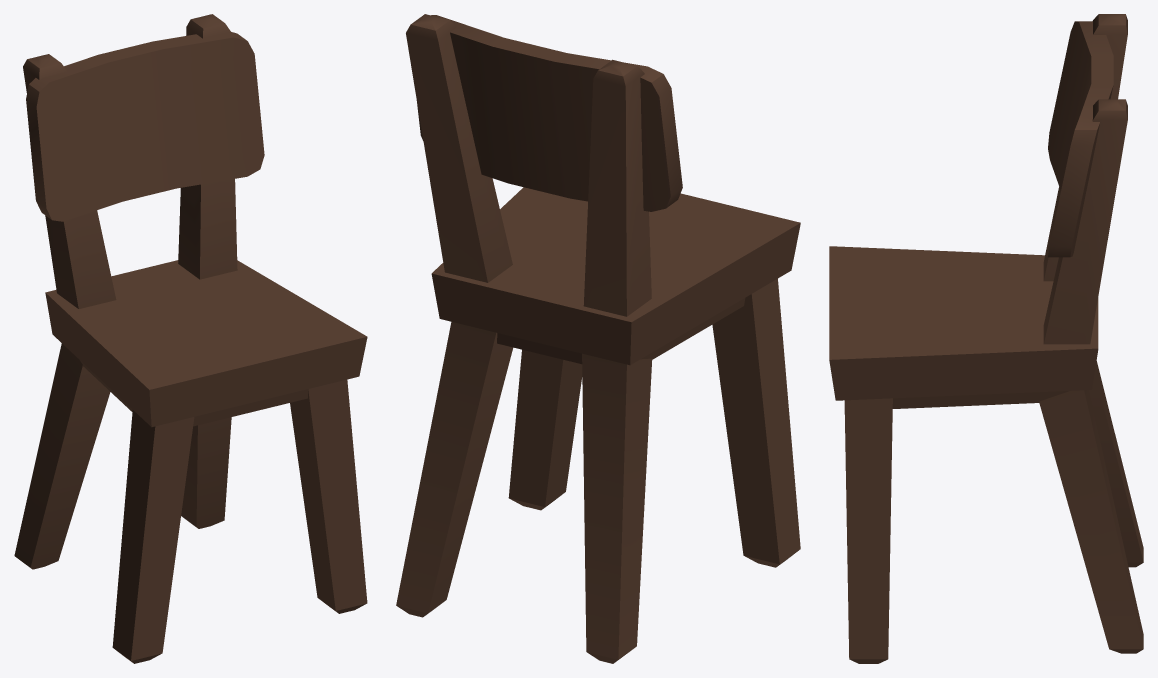
File: Mesh_Silla.fbx
3 views of the same model, side by side, from view 1: azimuth 30°, elevation 25°; view 2: azimuth 150°, elevation 25°; view 3: azimuth 270°, elevation 25° (orthographic). The views are drawn at different scales.
Parts seen in each view (by area): view 1: Mesh_ComedorSilla; view 2: Mesh_ComedorSilla; view 3: Mesh_ComedorSilla.
Boxes of the visible parts, x1,y1,x2,y2 form: Mesh_ComedorSilla: (14,14,367,663); Mesh_ComedorSilla: (396,14,800,663); Mesh_ComedorSilla: (829,14,1143,663).
Bounding box in the file's own units: 43.37 × 89.88 × 46.72.
